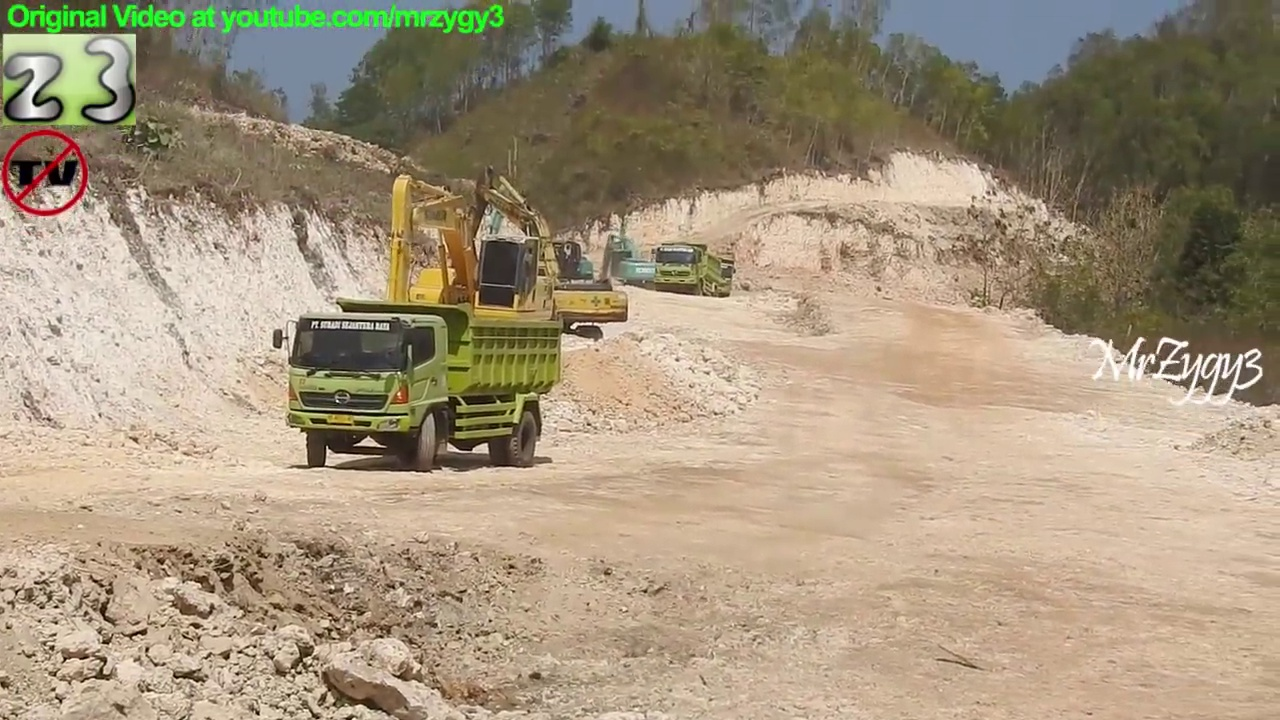excavator: (360, 172, 578, 376), (447, 164, 634, 348), (481, 188, 599, 300), (600, 226, 662, 296)
truck: (269, 296, 568, 474), (650, 240, 724, 302), (689, 250, 737, 299)
